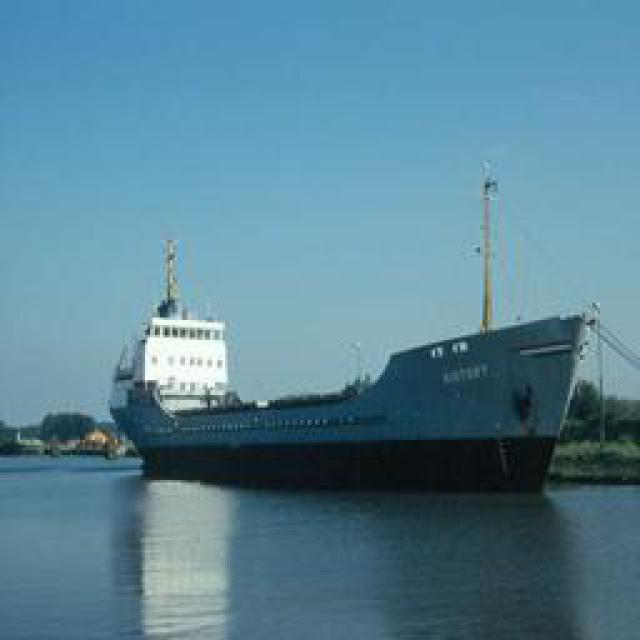Ship: (104, 209, 589, 482)
